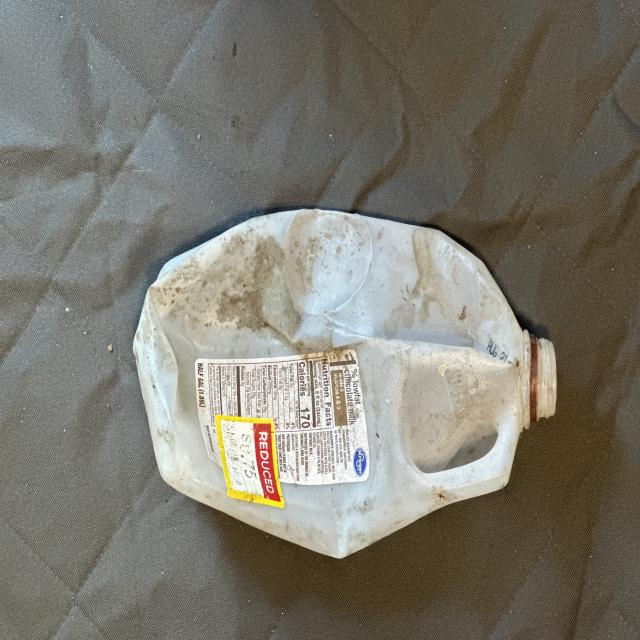milk-jug: (131, 204, 561, 560)
